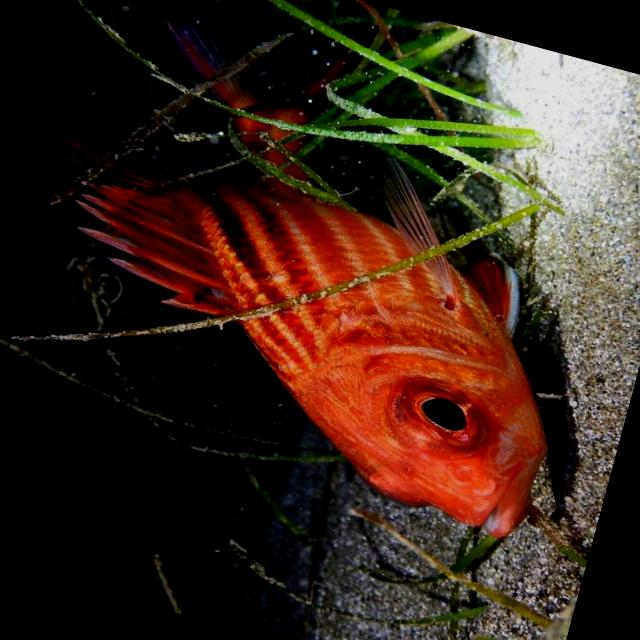Asker Baligi: (0, 0, 634, 548)
